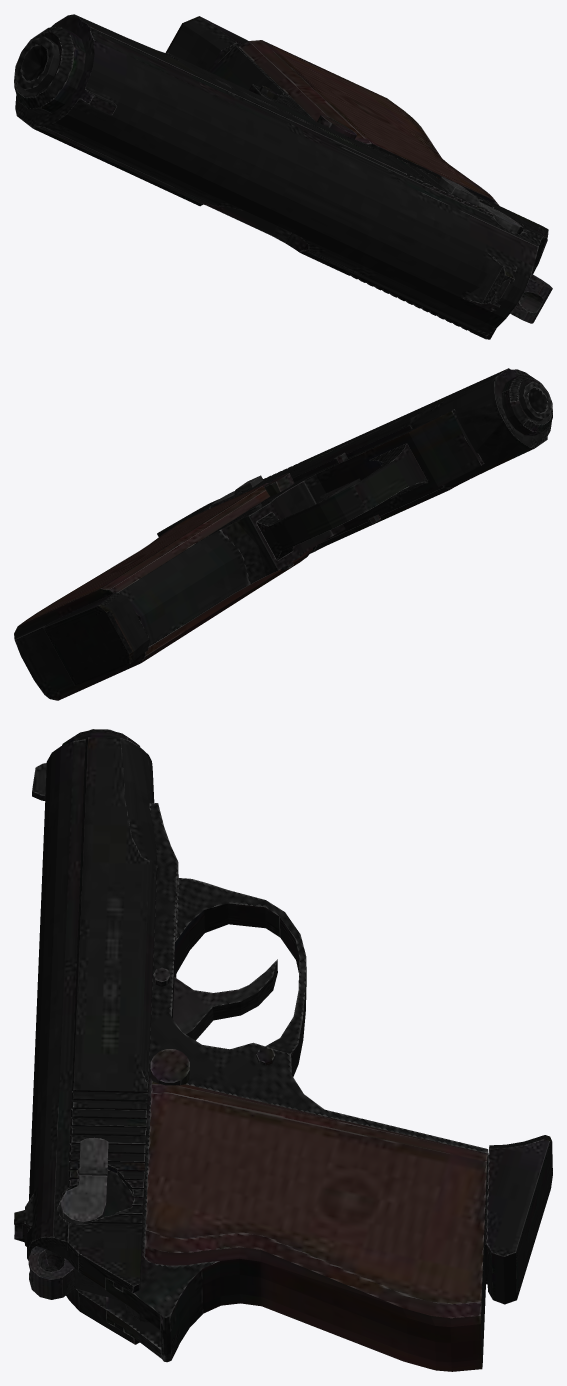
Rendered from medic-handgun.glb.
3 views of the same model, one above another, from view 1: azimuth 30°, elevation 25°; view 2: azimuth 150°, elevation 25°; view 3: azimuth 270°, elevation 25° (orthographic). The views are drawn at different scales.
Visible parts, largest first — view 1: geometry_0; view 2: geometry_0; view 3: geometry_0.
Boxes of the visible parts, bbox=[...] form: geometry_0: bbox=[14, 14, 552, 339]; geometry_0: bbox=[14, 368, 552, 700]; geometry_0: bbox=[14, 729, 552, 1371].
Size of the model in its own units: 0.1668 by 0.1224 by 0.1421.
1 material, 1 textured.
